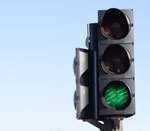2: (98, 9, 135, 115)
3: (100, 8, 133, 42), (101, 44, 134, 77)
red traffic light: (99, 79, 135, 114)
